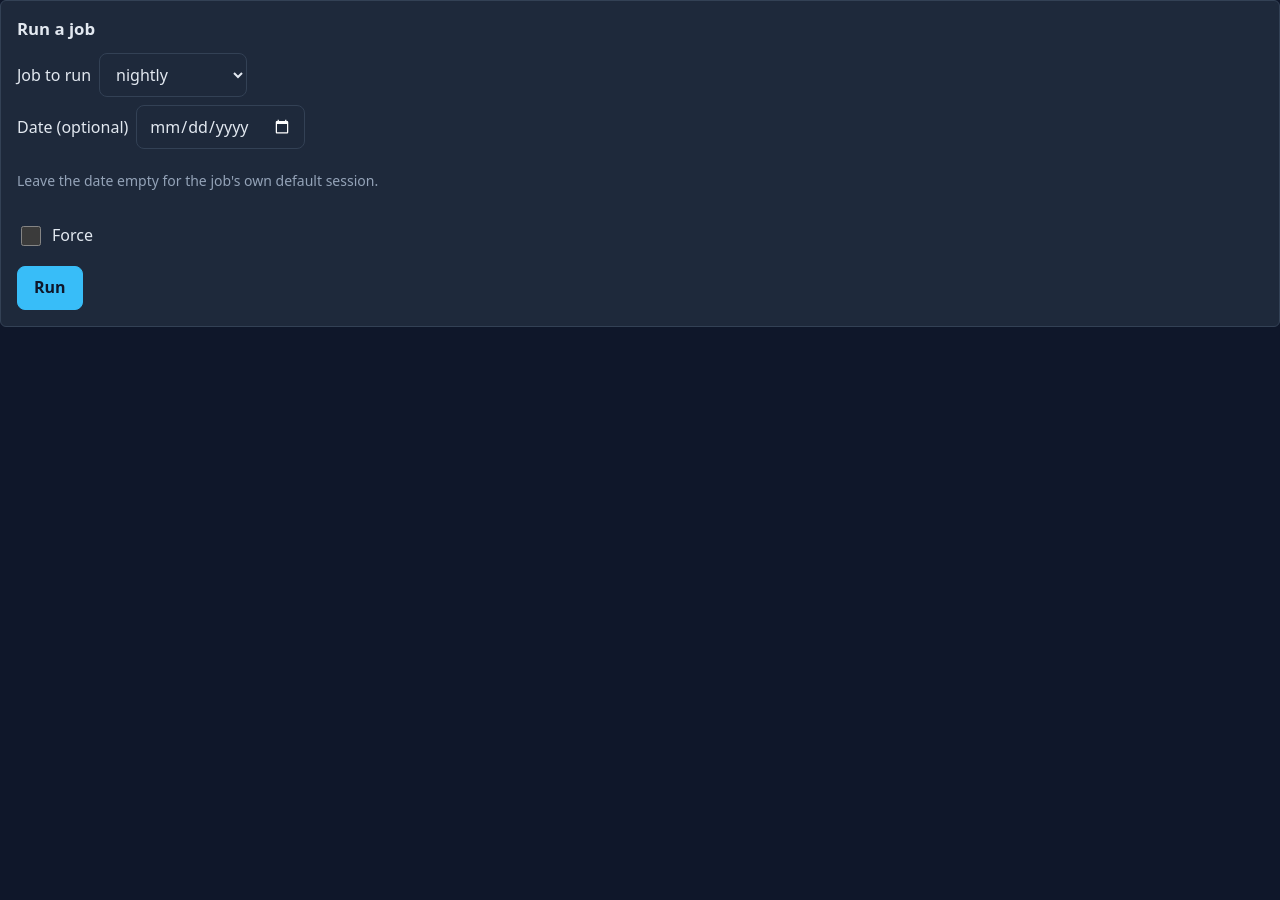
RunJob (acceptance test 4) › a 409 shows the server's 'already running' message
Click the button "Run". click: click(50, 288)
box: [17, 266, 83, 310]
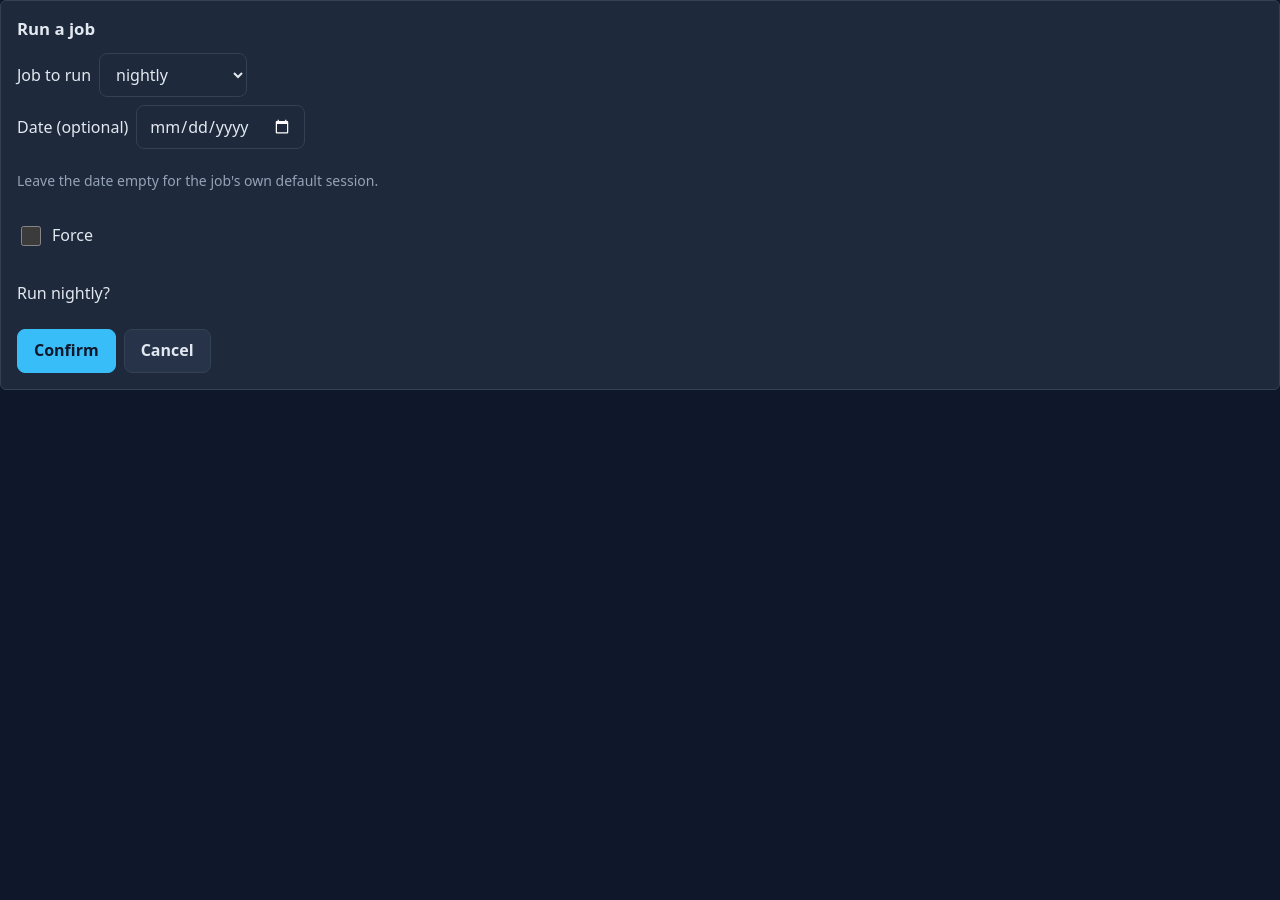
Click the button "Confirm". click: click(66, 351)
box: [17, 329, 116, 373]
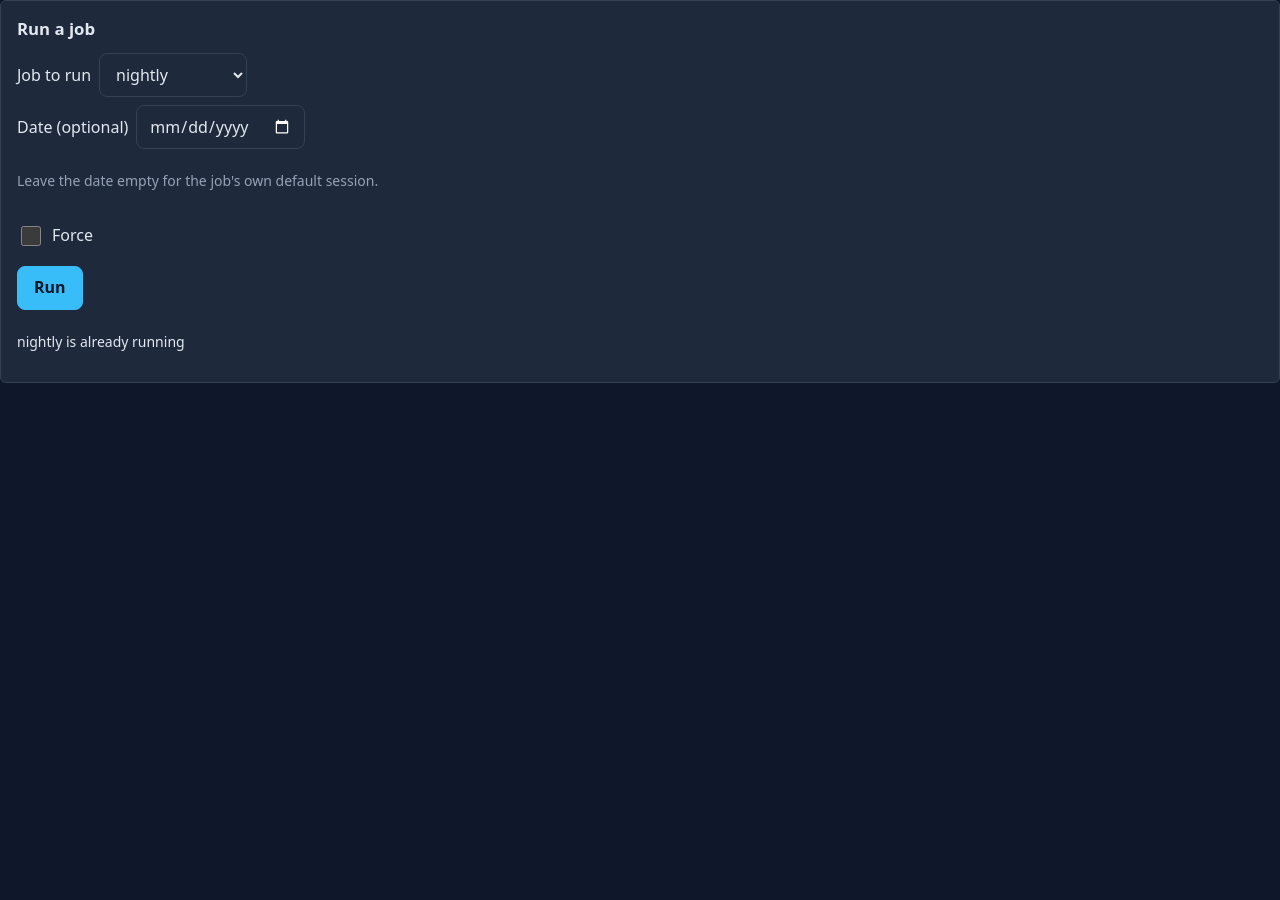
Result: the message shows "already running" at [17, 332, 185, 351]
